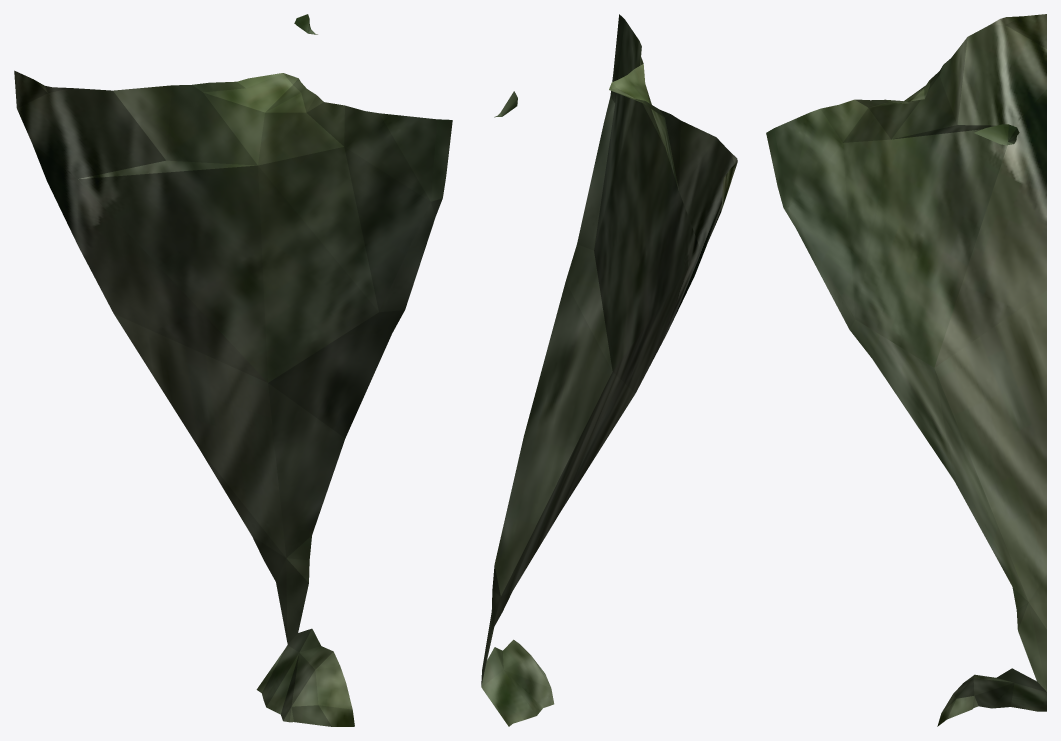
3 views of the same model, side by side, from view 1: azimuth 30°, elevation 25°; view 2: azimuth 150°, elevation 25°; view 3: azimuth 270°, elevation 25° (orthographic). The views are drawn at different scales.
Size of the model in its own units: 1.27 by 2.95 by 1.26.
Materials: 1 (1 with a texture image).
